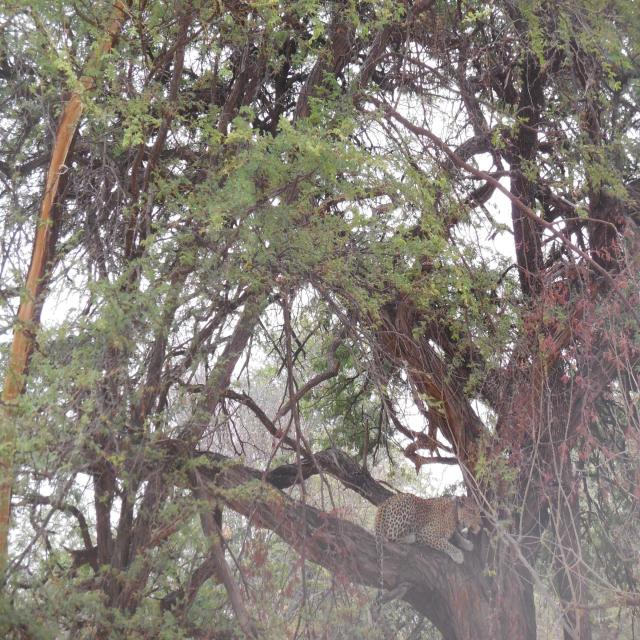Leopard: (368, 488, 464, 565)
